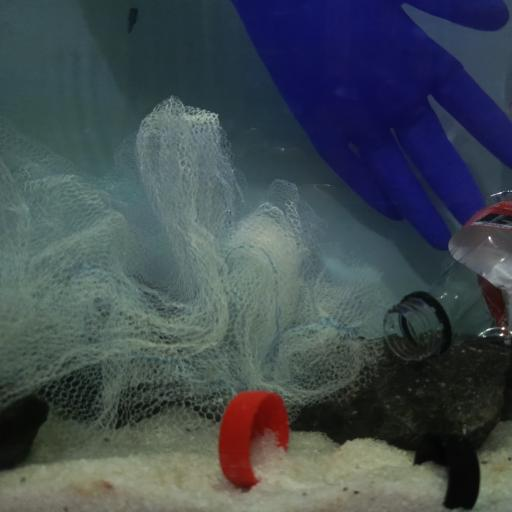bottle_cap: (220, 390, 293, 486), (415, 434, 480, 512)
glove: (231, 0, 512, 253)
net: (0, 95, 396, 443)
plastic_bottle: (386, 189, 512, 363)
